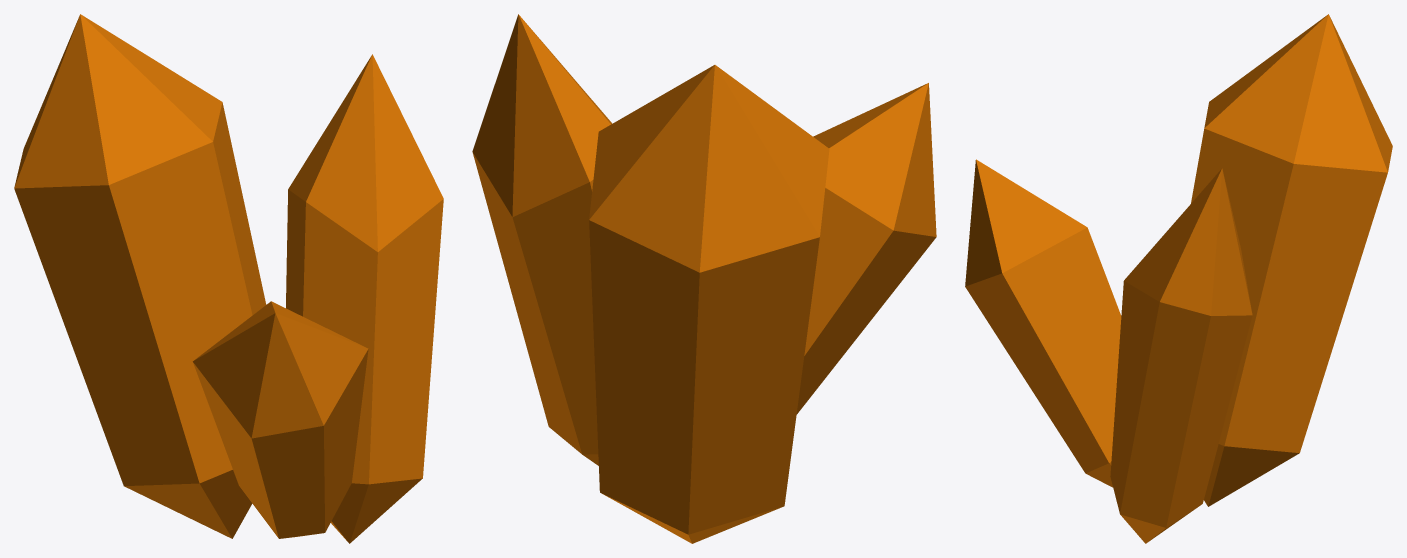
The model's file is originium_crystal.obj.
3 renders of one model, left to right at view 1: azimuth 30°, elevation 25°; view 2: azimuth 150°, elevation 25°; view 3: azimuth 270°, elevation 25°, orthographic. The views are drawn at different scales.
Visible parts, largest first — view 1: Green_Crystal_Cylinder.013; view 2: Green_Crystal_Cylinder.013; view 3: Green_Crystal_Cylinder.013.
Part boxes in pixels (<box>): Green_Crystal_Cylinder.013: <box>14,14,443,543</box>; Green_Crystal_Cylinder.013: <box>472,14,936,543</box>; Green_Crystal_Cylinder.013: <box>965,14,1392,543</box>.
Size of the model in its own units: 0.8377 by 1.1 by 0.9407.
